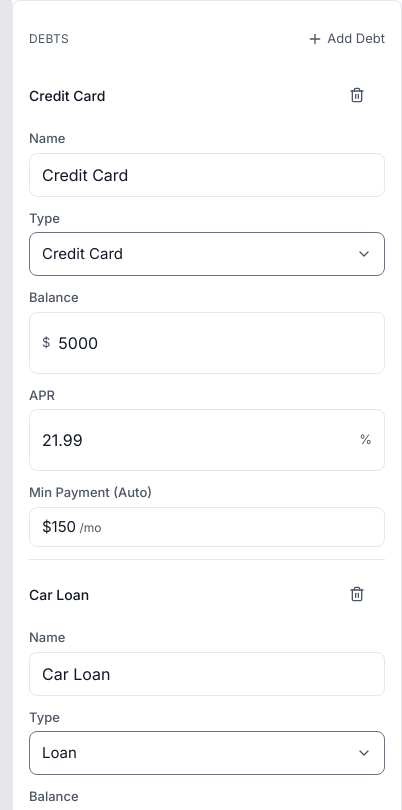
Test: DebtPayoffCalculator debt card › removes the correct debt when there are multiple debts
The image size is (402, 810).
Click the button named "Remove". click: (363, 95)
box: [341,73,385,117]
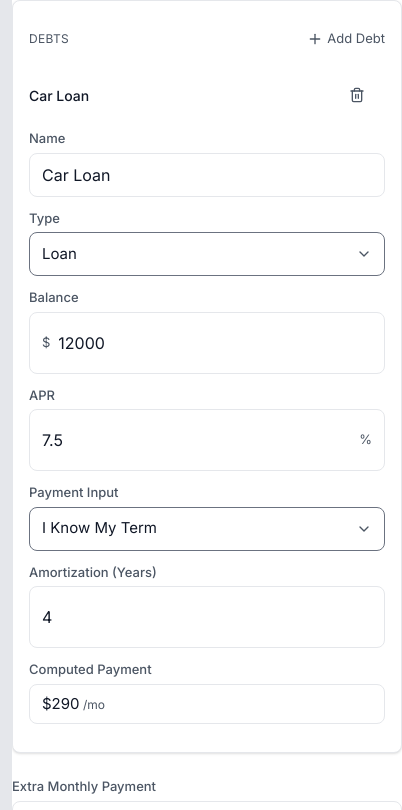
Expected: the text "Car Loan" is shown, [29,84,89,106]
Expected: the number of elements with test id "debt-card-header" is 1, [29,73,385,117]
